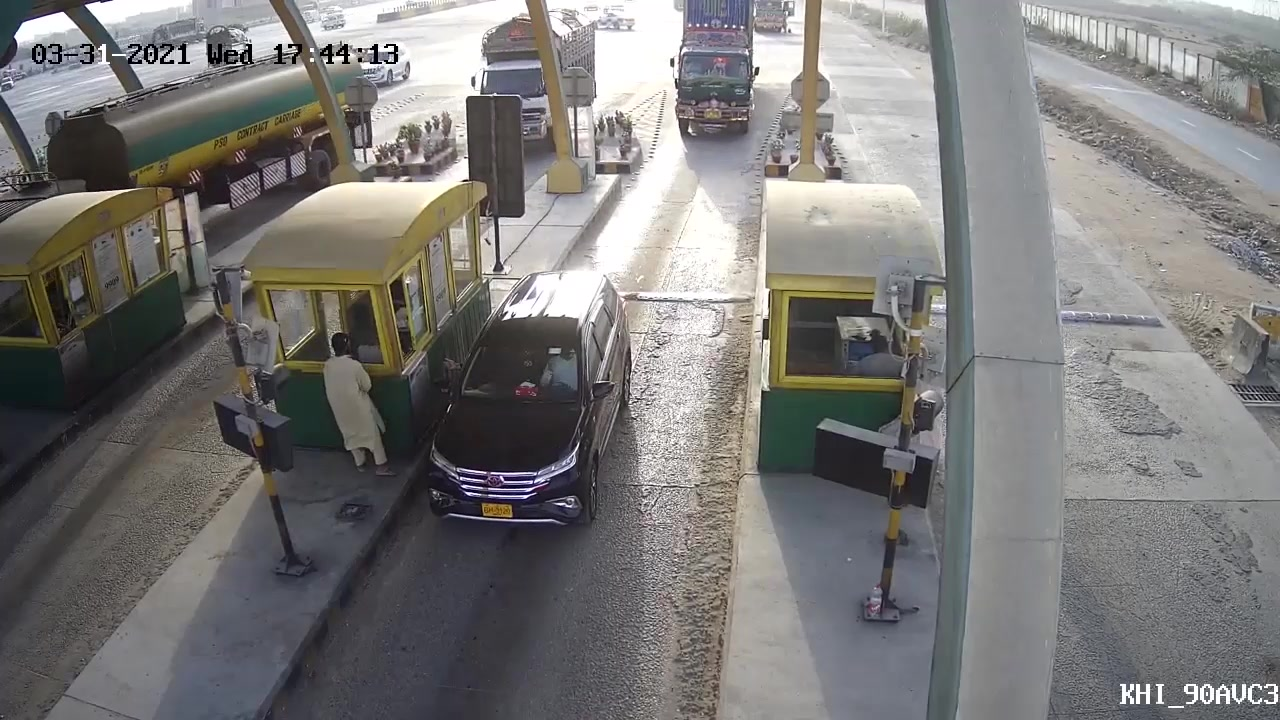F1: (414, 269, 638, 548)
